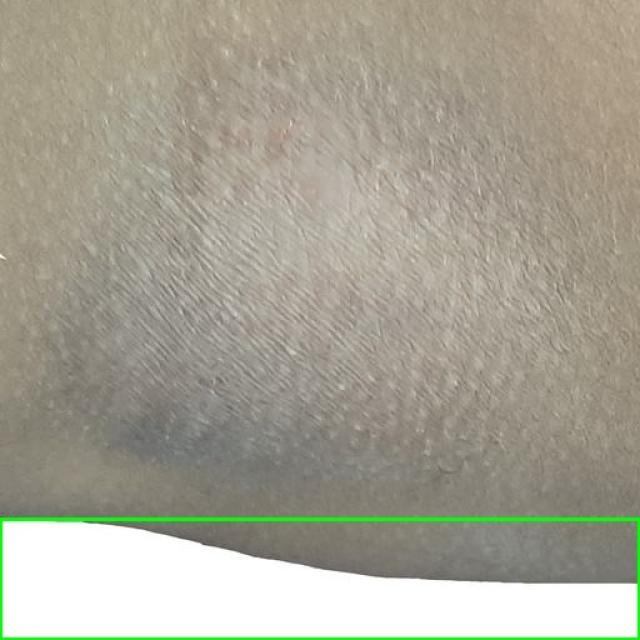Atopic Dermatitis: (0, 519, 639, 639)
